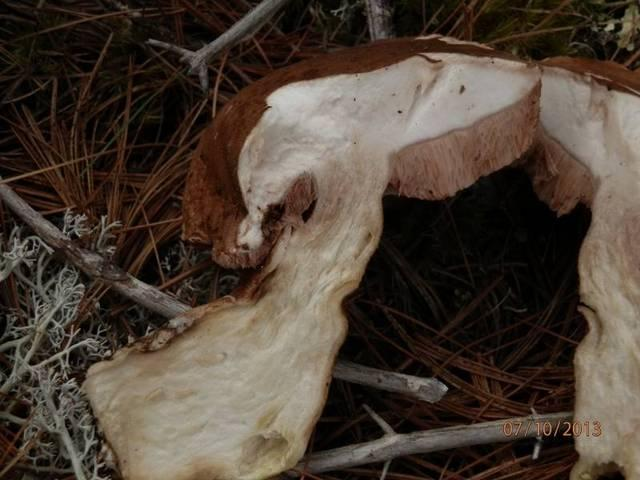poisonous_mushroom: (78, 33, 639, 479)
